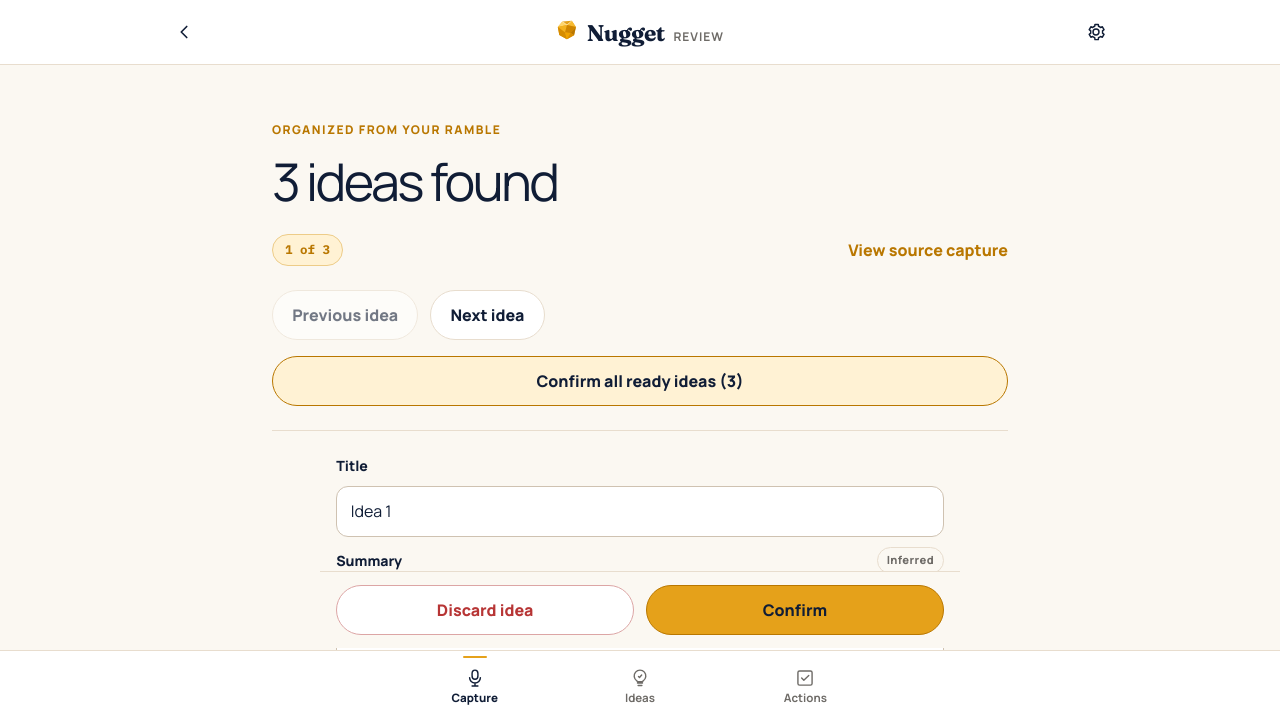
Scenario: ReviewScreen multi-idea confirmation › preserves independent edits while switching candidates
Replace the text in the field labelled "Title" with "Edited first idea" at (640, 512), box 336,486 -> 944,537
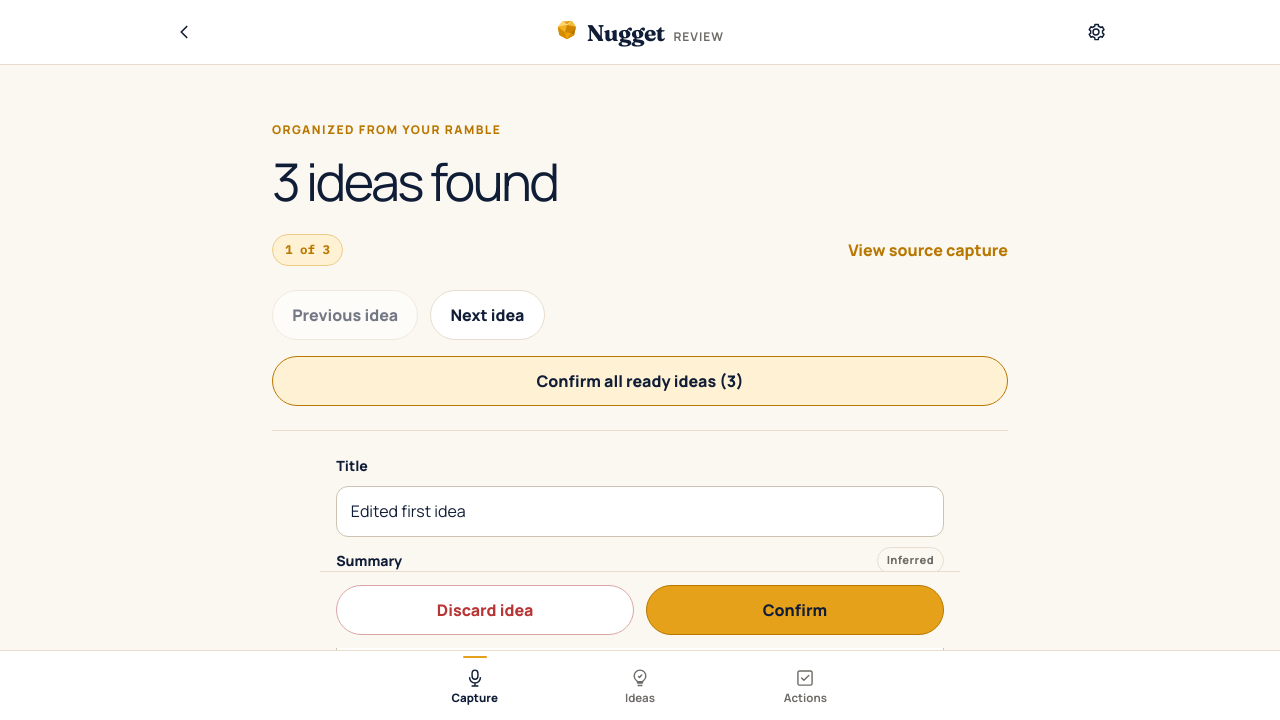
Click the button "Next idea".
click(487, 315)  # box 430,290 -> 545,340
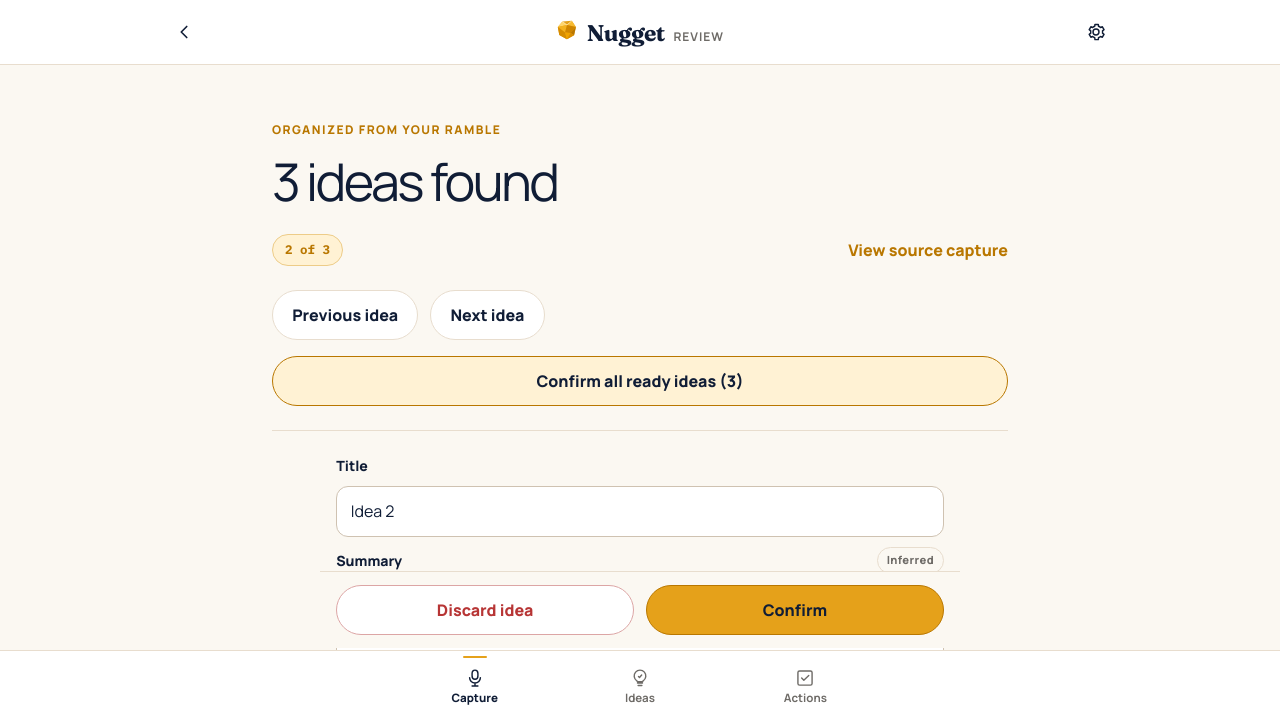
Replace the text in the field labelled "Title" with "Edited second idea" at (640, 512), box 336,486 -> 944,537
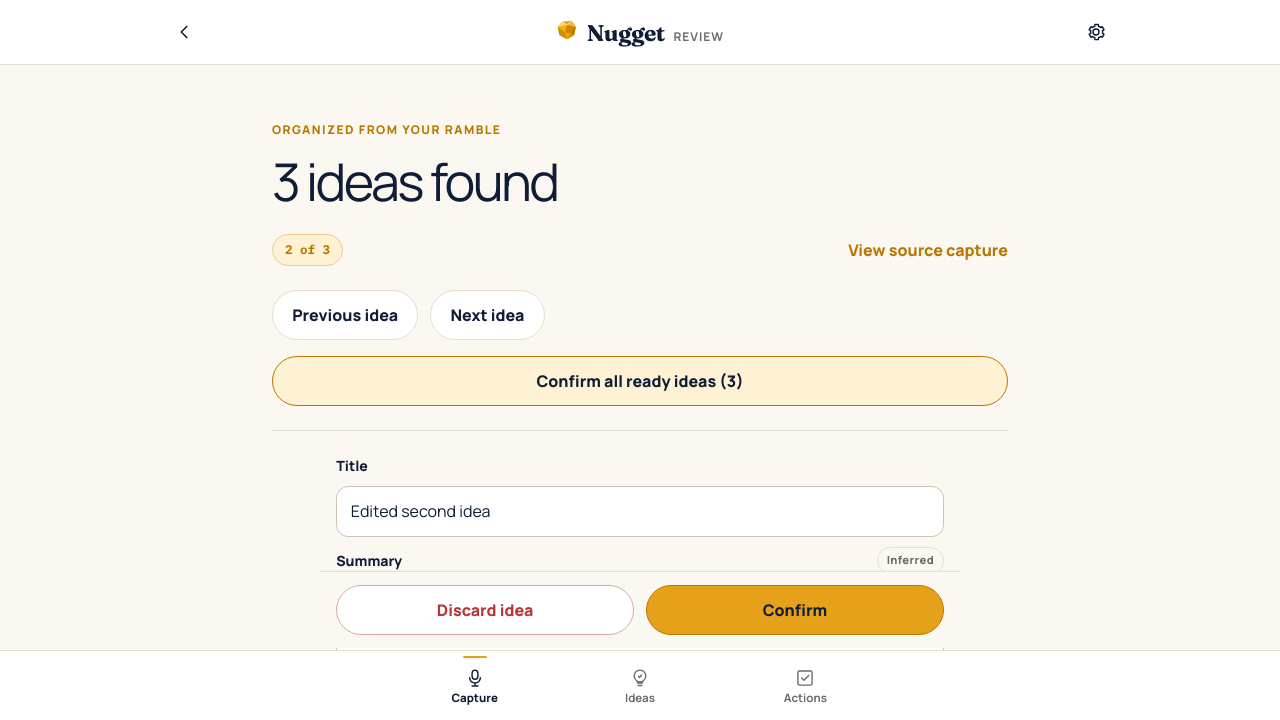
Click the button "Previous idea".
click(345, 315)  # box 272,290 -> 418,340
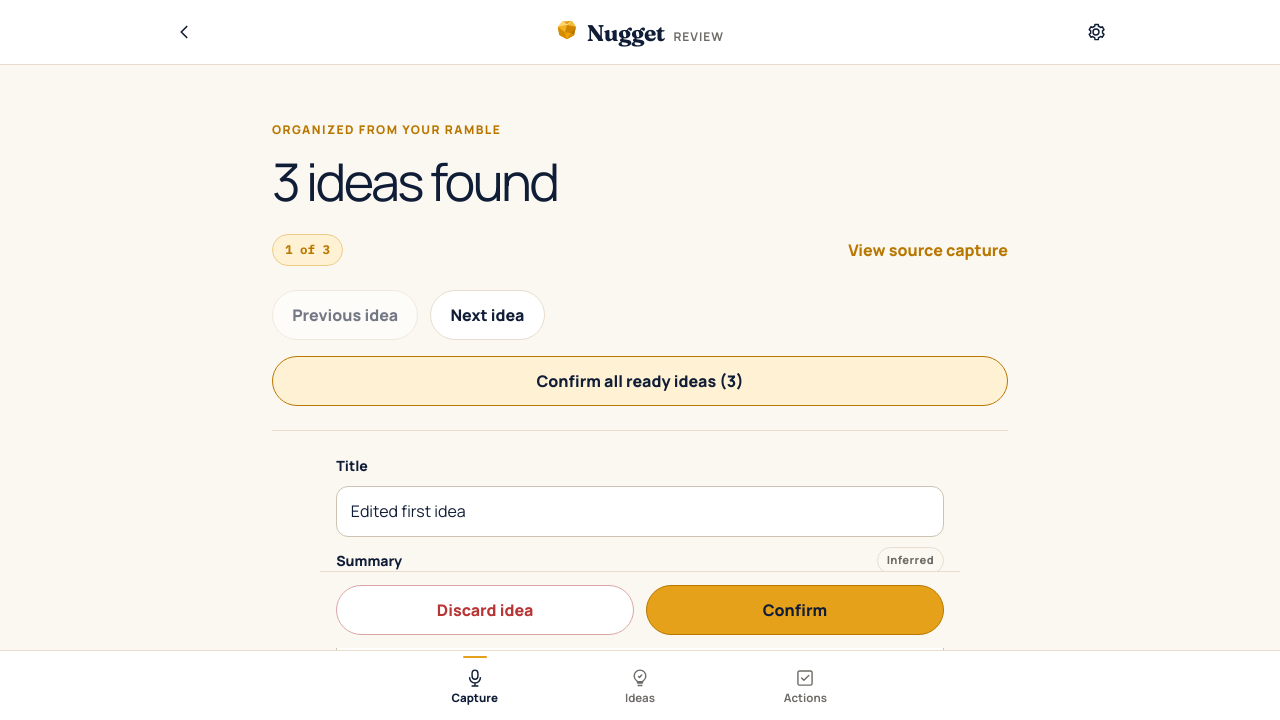
Now the field labelled "Title" holds "Edited first idea", box 336,486 -> 944,537
Click the button "Next idea".
click(487, 315)  # box 430,290 -> 545,340
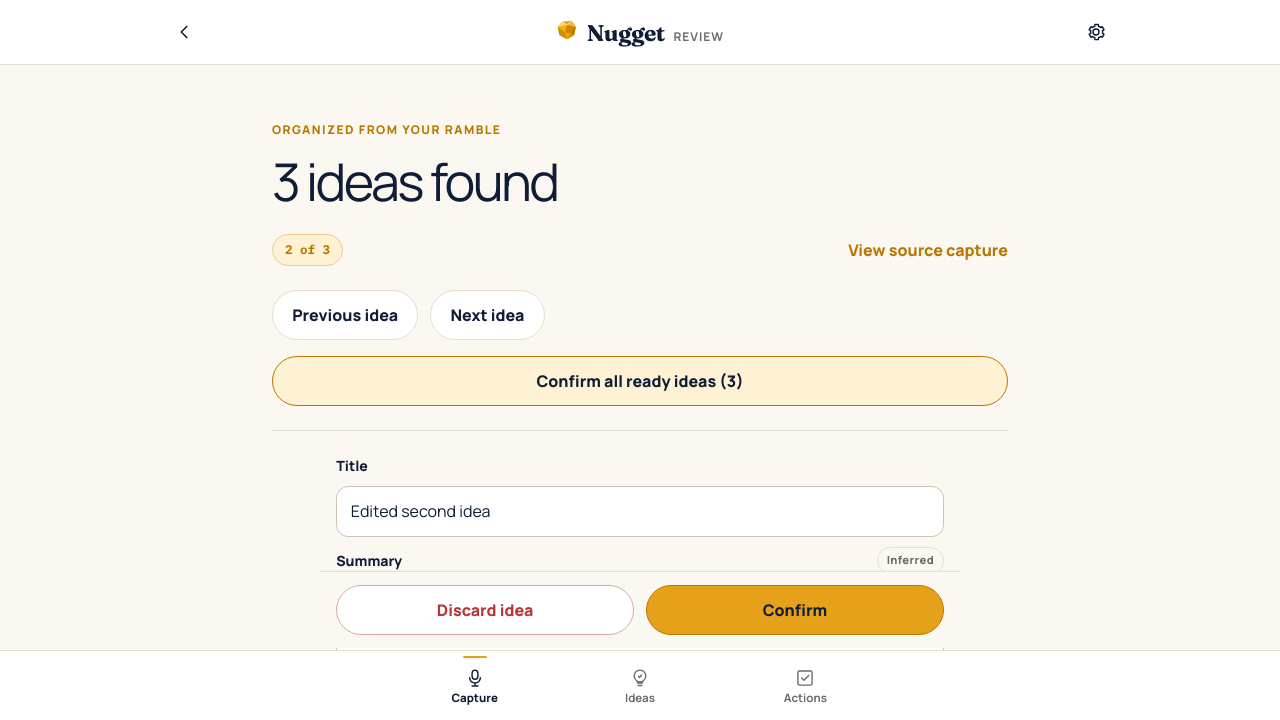
Now the field labelled "Title" holds "Edited second idea", box 336,486 -> 944,537
